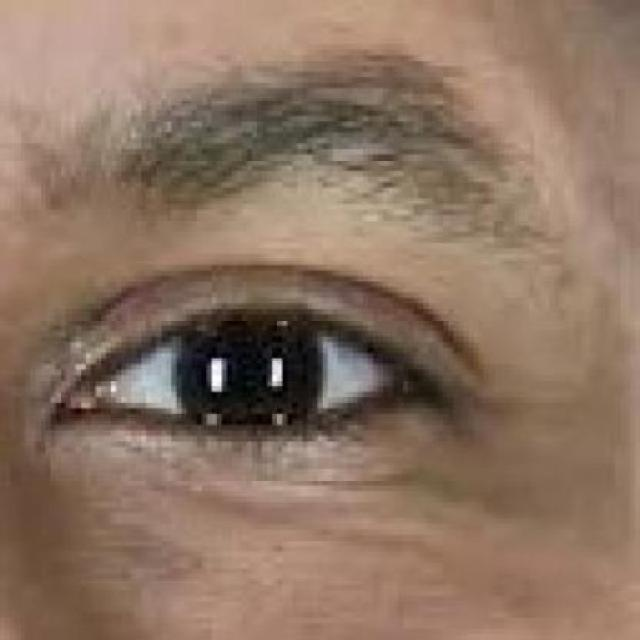awake: (50, 259, 424, 447)
